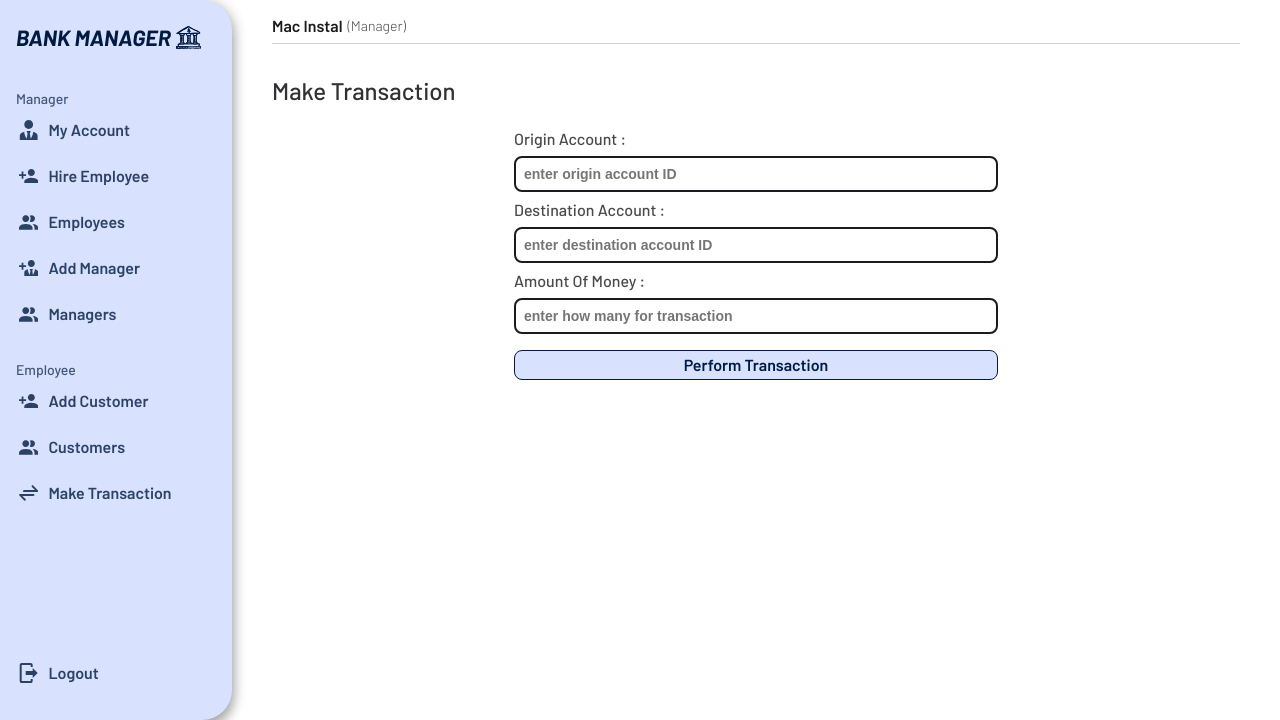
Test case: fill inputs › if origin and destination is same show error
Type "2" into the field with test id "dash-makeTransaction-oId" at (756, 174), box [514,156,998,192]
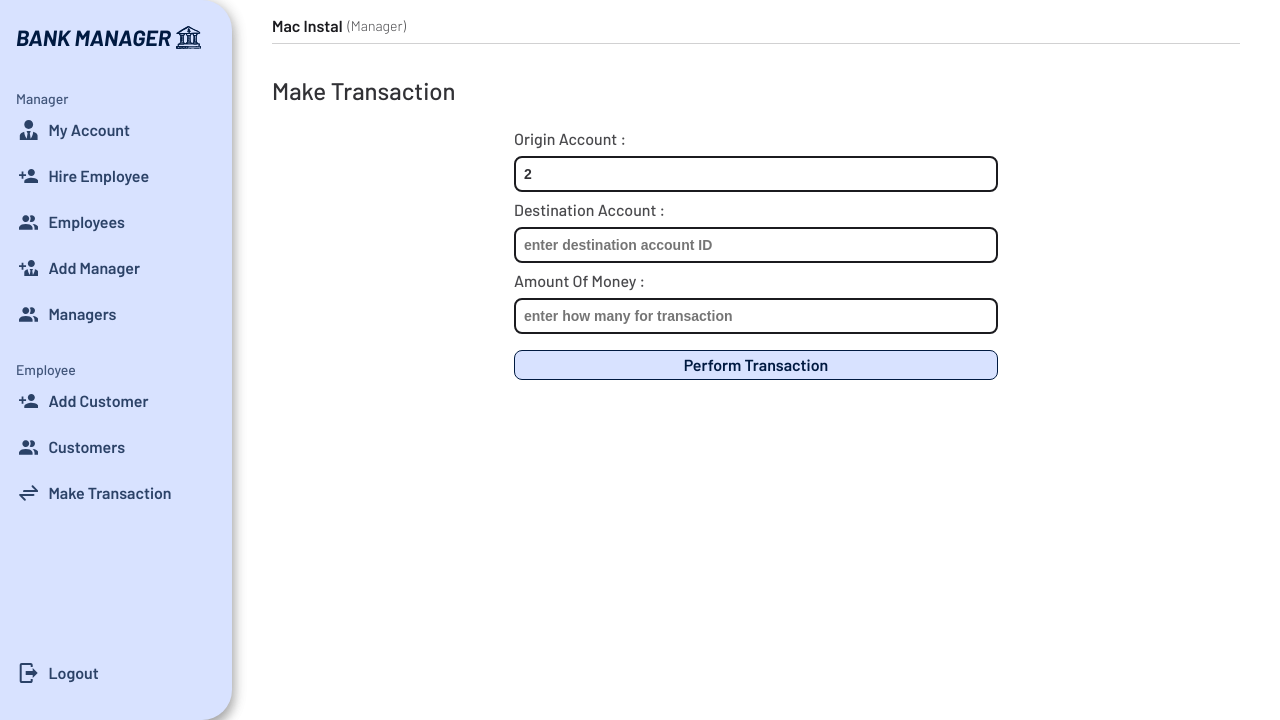
Type "1" into the field with test id "dash-makeTransaction-dId" at (756, 245), box [514,227,998,263]
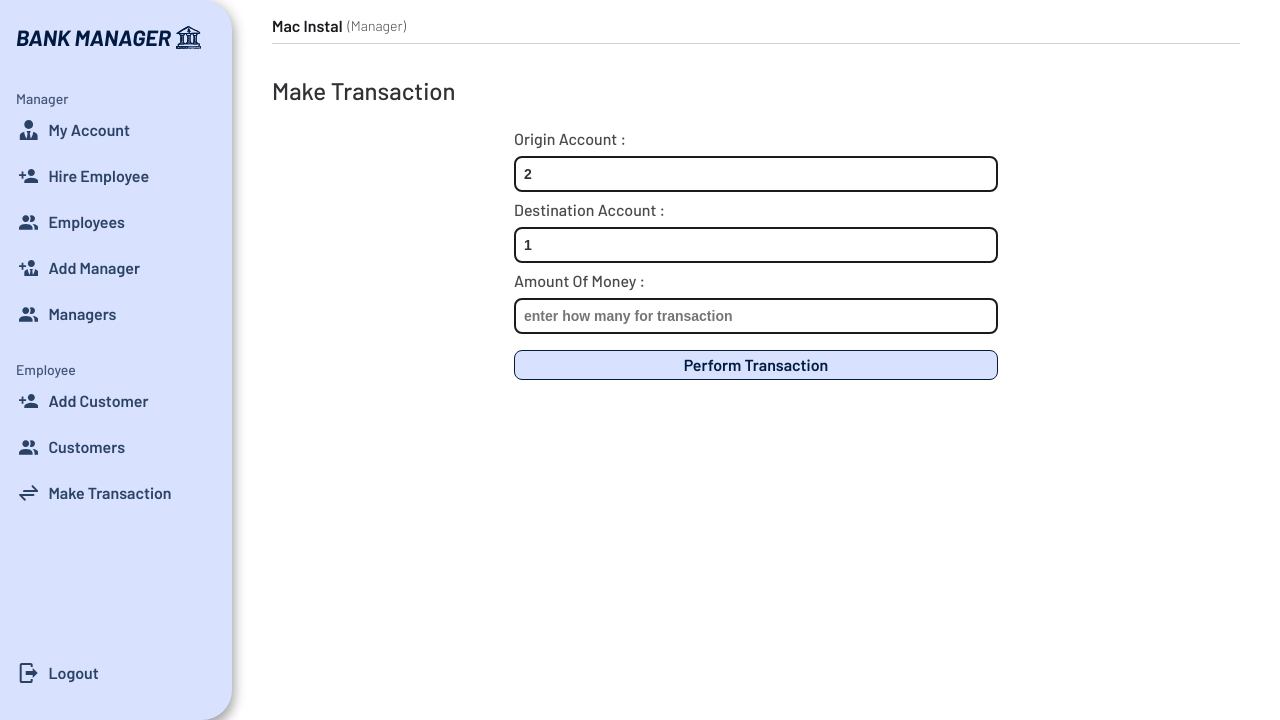
Type "11" into the field with test id "dash-makeTransaction-amount" at (756, 316), box [514,298,998,334]
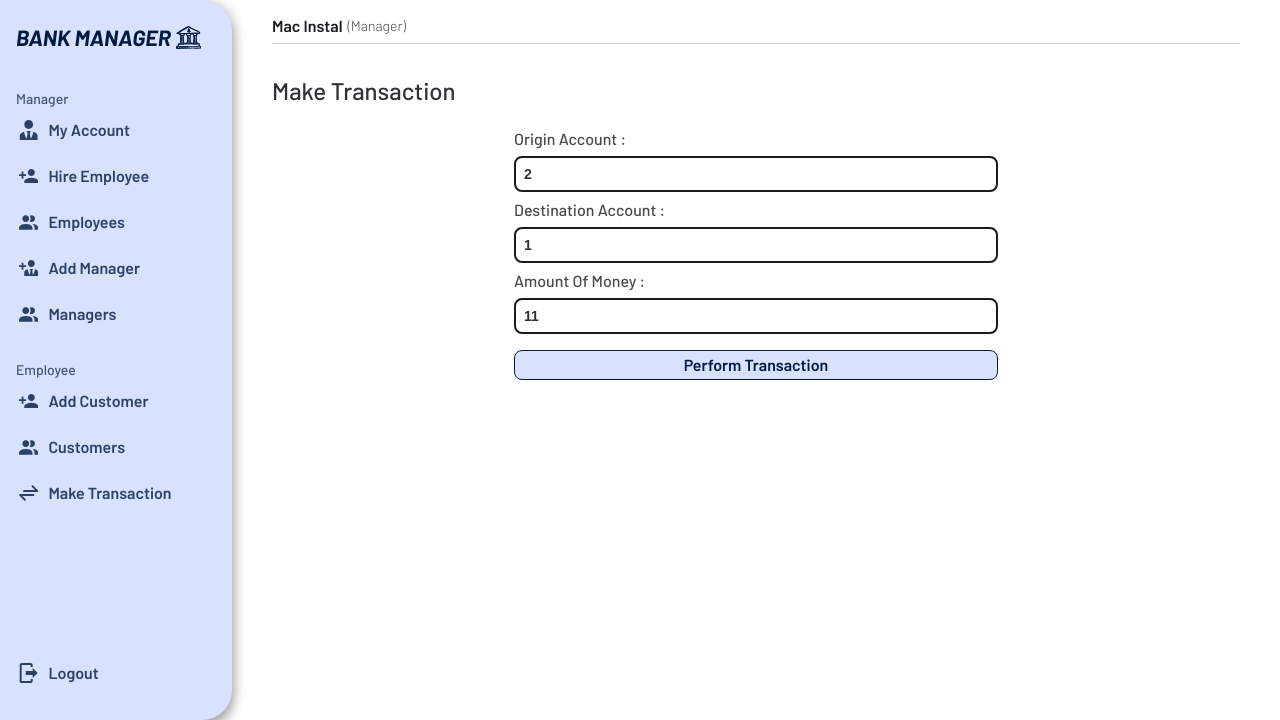
Replace the text in the field with test id "dash-makeTransaction-oId" with "1" at (756, 174), box [514,156,998,192]
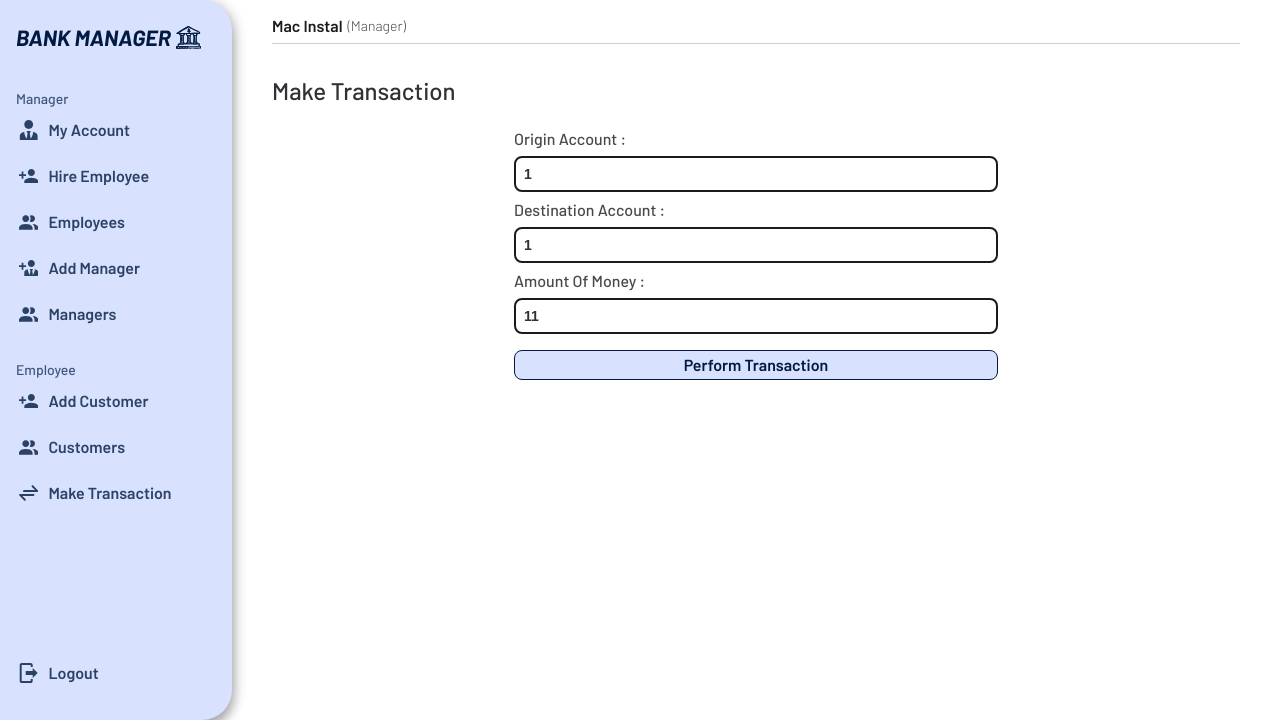
Click the button with test id "dash-makeTransaction-submit" at (756, 365), box [514,350,998,380]
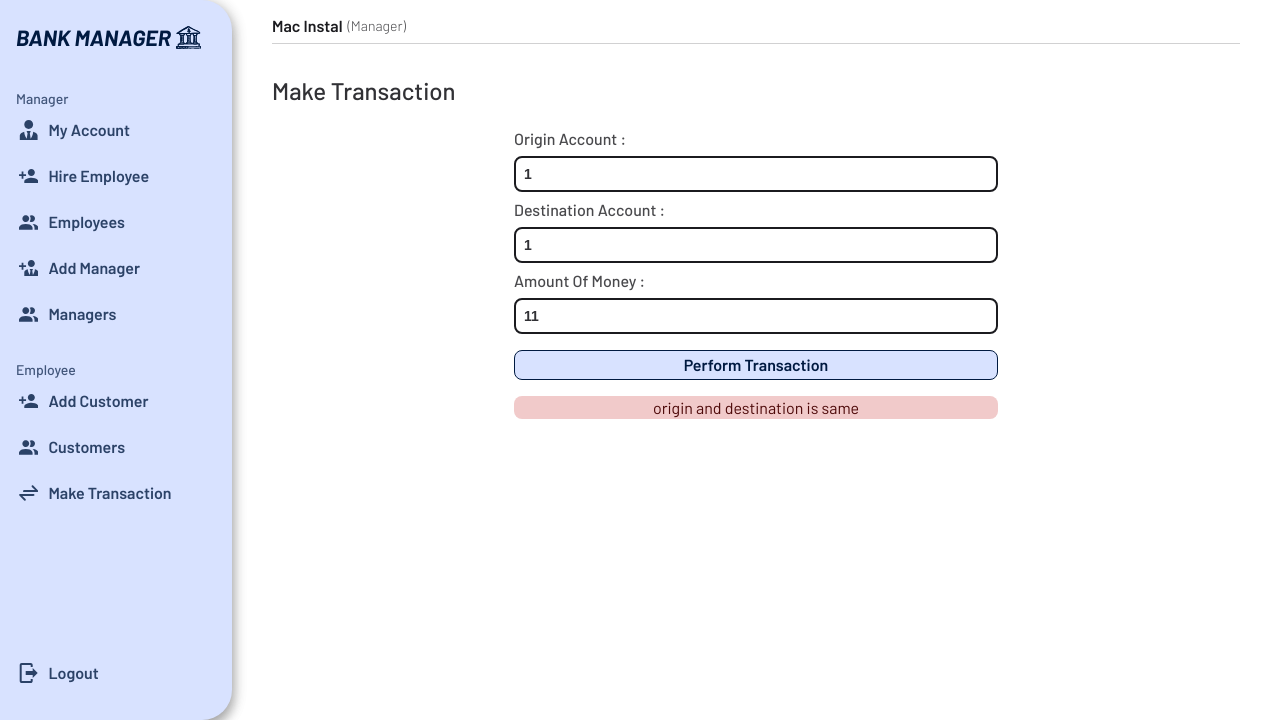
Result: the text "origin and destination is same" is shown at [514,396,998,419]
